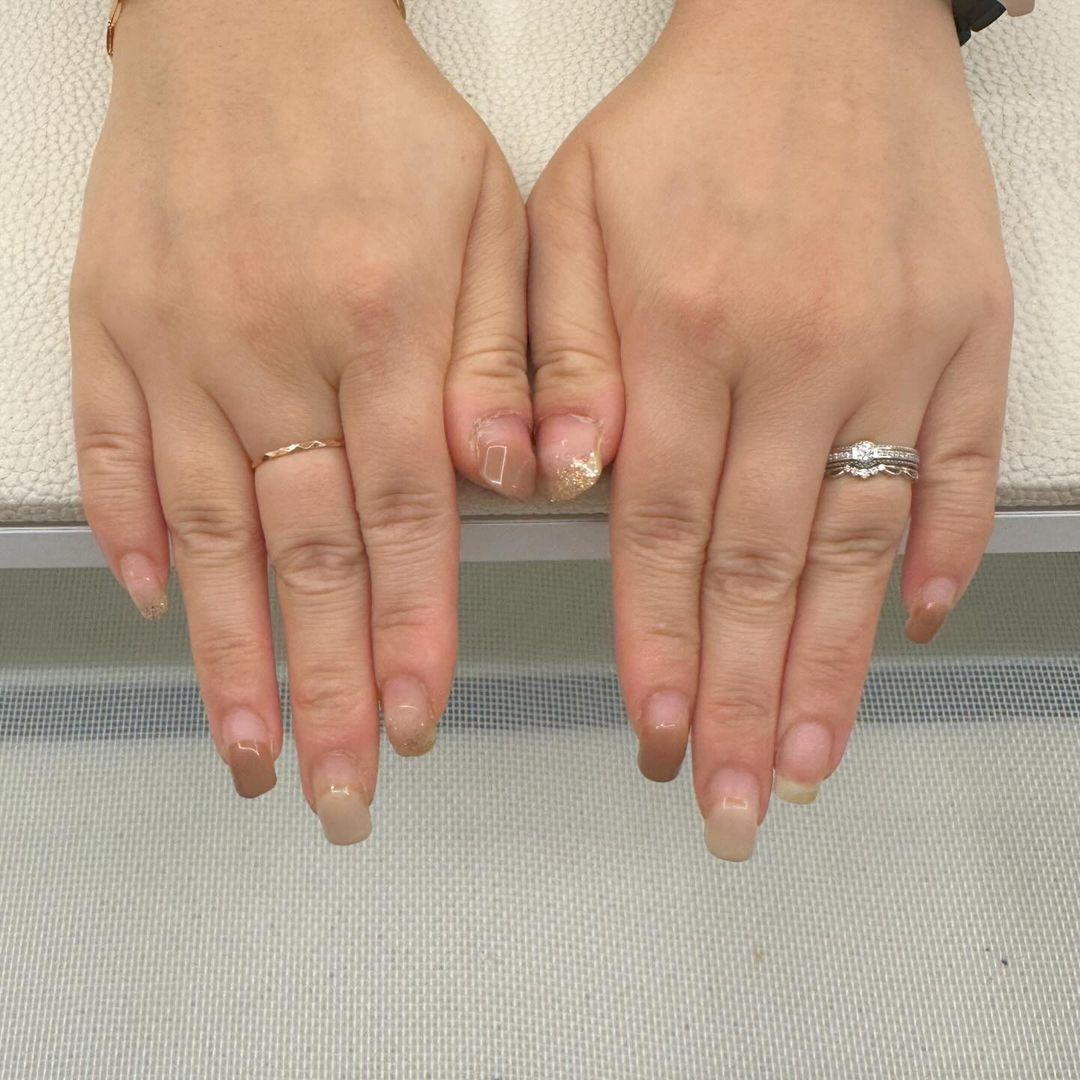nail: (535, 410, 604, 503), (468, 409, 536, 502), (310, 750, 373, 845), (702, 764, 761, 861), (220, 704, 277, 798), (772, 717, 833, 804), (635, 686, 690, 782), (381, 672, 436, 756), (903, 574, 955, 645), (118, 549, 168, 621)
